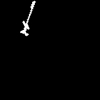double_crochet: (21, 1, 34, 35)
